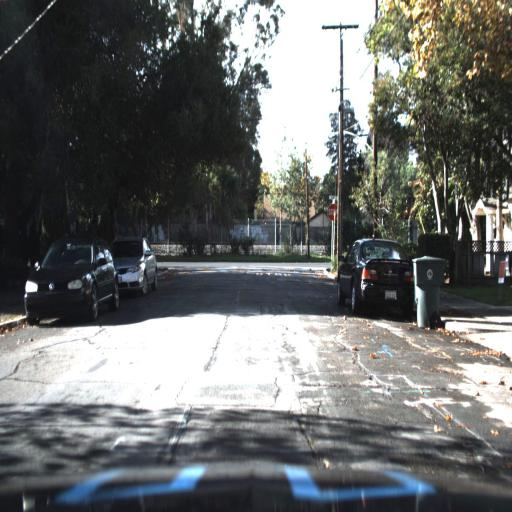car: (24, 241, 125, 327), (335, 236, 419, 323), (118, 230, 159, 301), (109, 239, 158, 288)
